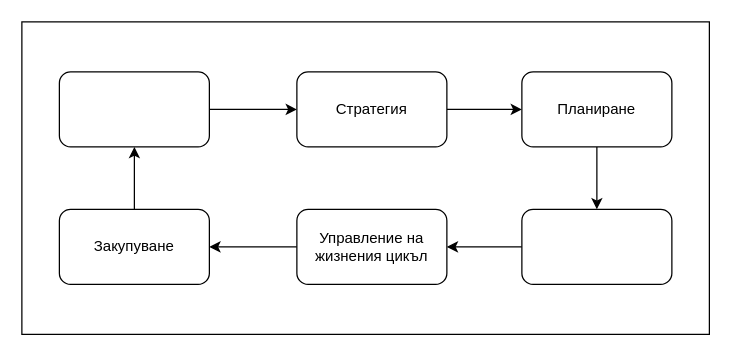
Image size: 731x356. Some labels were removed from this diagram. Each missing label, with the box of its shape:
Логистика: (58, 71, 209, 147)
Управление на активи: (521, 208, 672, 284)
